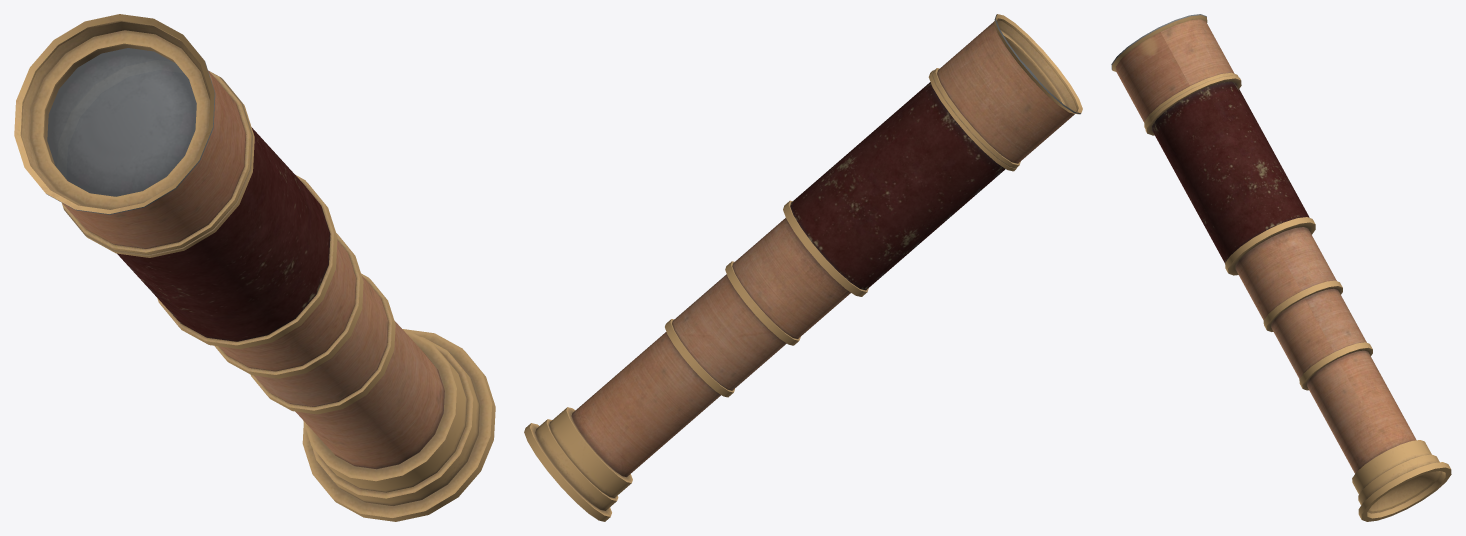
The model's file is telescope.glb.
The picture shows the model from 3 angles, left to right: view 1: azimuth 30°, elevation 25°; view 2: azimuth 150°, elevation 25°; view 3: azimuth 270°, elevation 25°; orthographic projection. The views are drawn at different scales.
Visible parts, largest first — view 1: Cylinder002; view 2: Cylinder002; view 3: Cylinder002.
Boxes of the visible parts, <box> form: Cylinder002: <box>14,14,495,521</box>; Cylinder002: <box>524,14,1082,521</box>; Cylinder002: <box>1111,14,1451,521</box>.
Bounding box in the file's own units: 1.5 × 1.62 × 1.28.
Materials: 1 (1 with a texture image).
